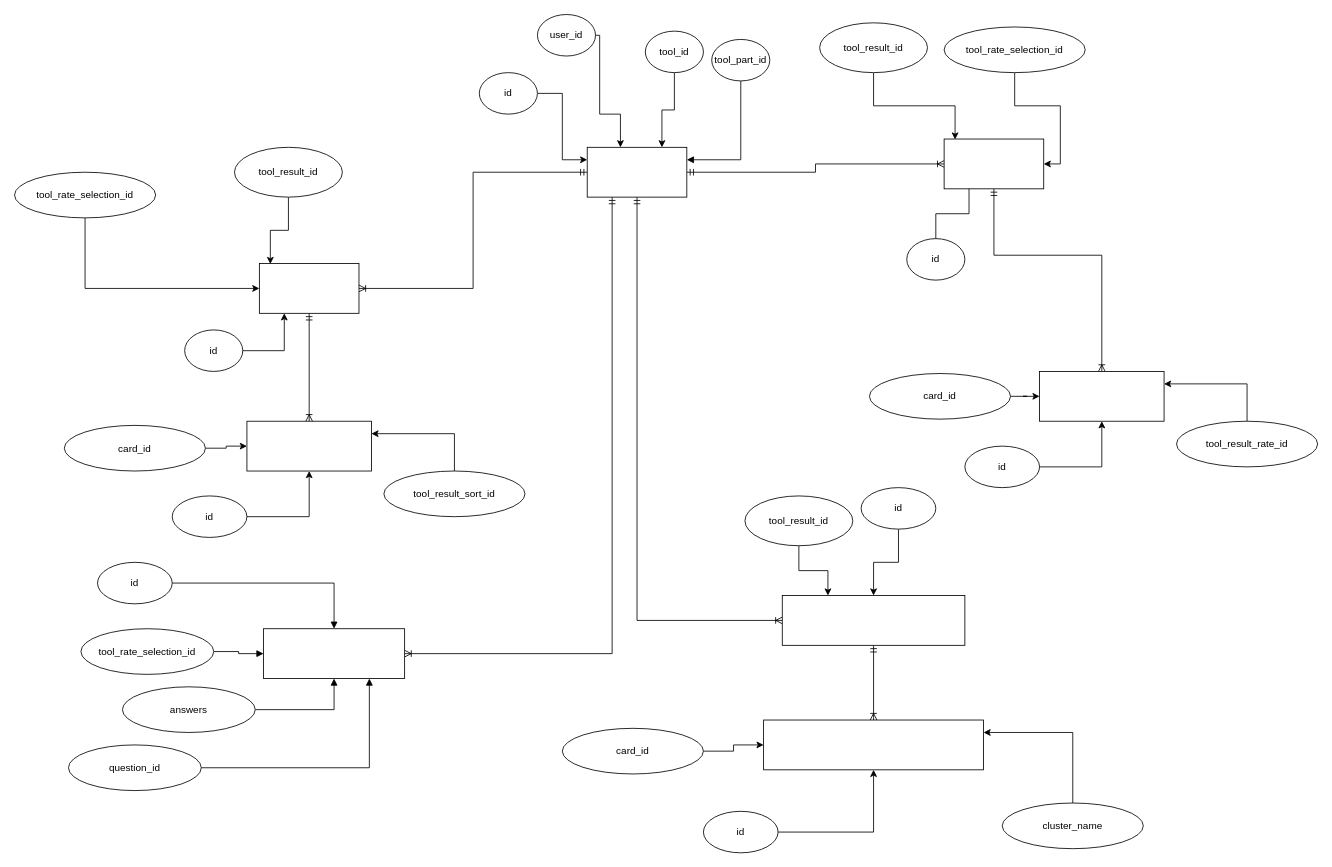
This 1332x867 diagram has some shape labels left out. The centre of each missing label's shape, as x and y in pixels:
"tool_result_custom_cluster_sort_cards" belongs at [873,744].
"tool_result_custom_cluster_sorts" belongs at [873,620].
"tool_result_questions" belongs at [334,653].
"tool_result_rate_cards" belongs at [1101,396].
"tool_result_rates" belongs at [993,163].
"tool_result_sort_cards" belongs at [308,445].
"tool_result_sorts" belongs at [309,288].
"tool_results" belongs at [636,171].
